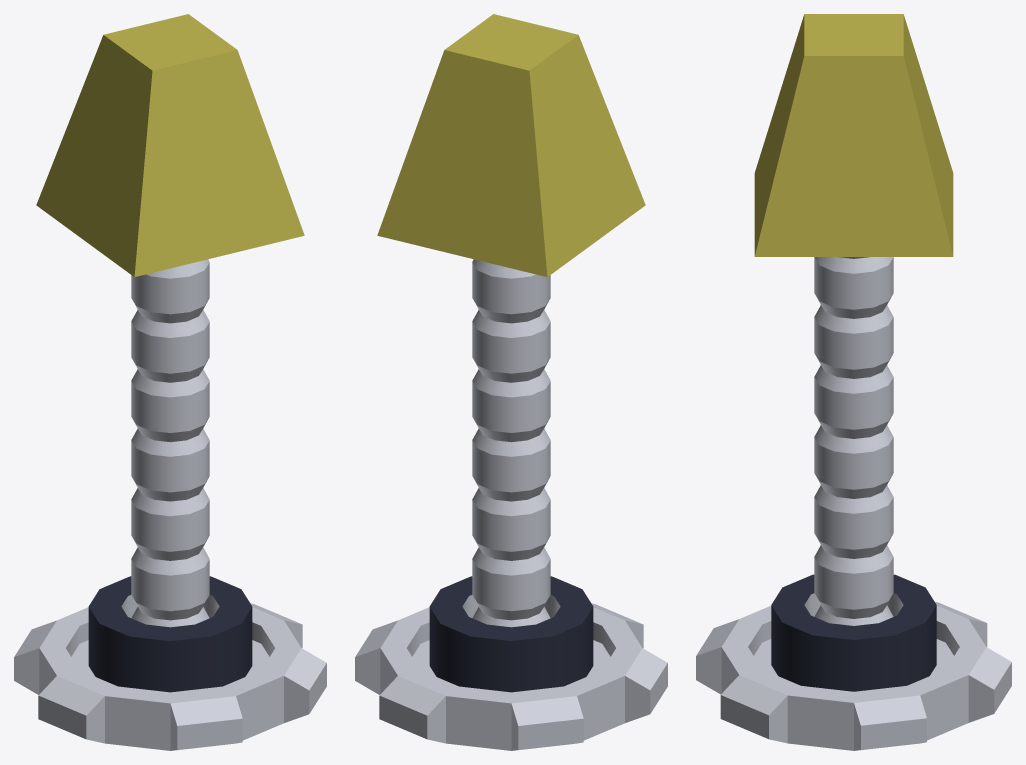
File: Lamp.fbx
The picture shows the model from 3 angles, left to right: view 1: azimuth 30°, elevation 25°; view 2: azimuth 150°, elevation 25°; view 3: azimuth 270°, elevation 25°; orthographic projection.
Visible parts, largest first — view 1: mergedBlocks; view 2: mergedBlocks; view 3: mergedBlocks.
Boxes of the visible parts, x1,y1,x2,y2 form: mergedBlocks: (14, 14, 326, 750); mergedBlocks: (355, 14, 667, 750); mergedBlocks: (696, 14, 1011, 750).
Size of the model in its own units: 9.55 by 22 by 9.55.
